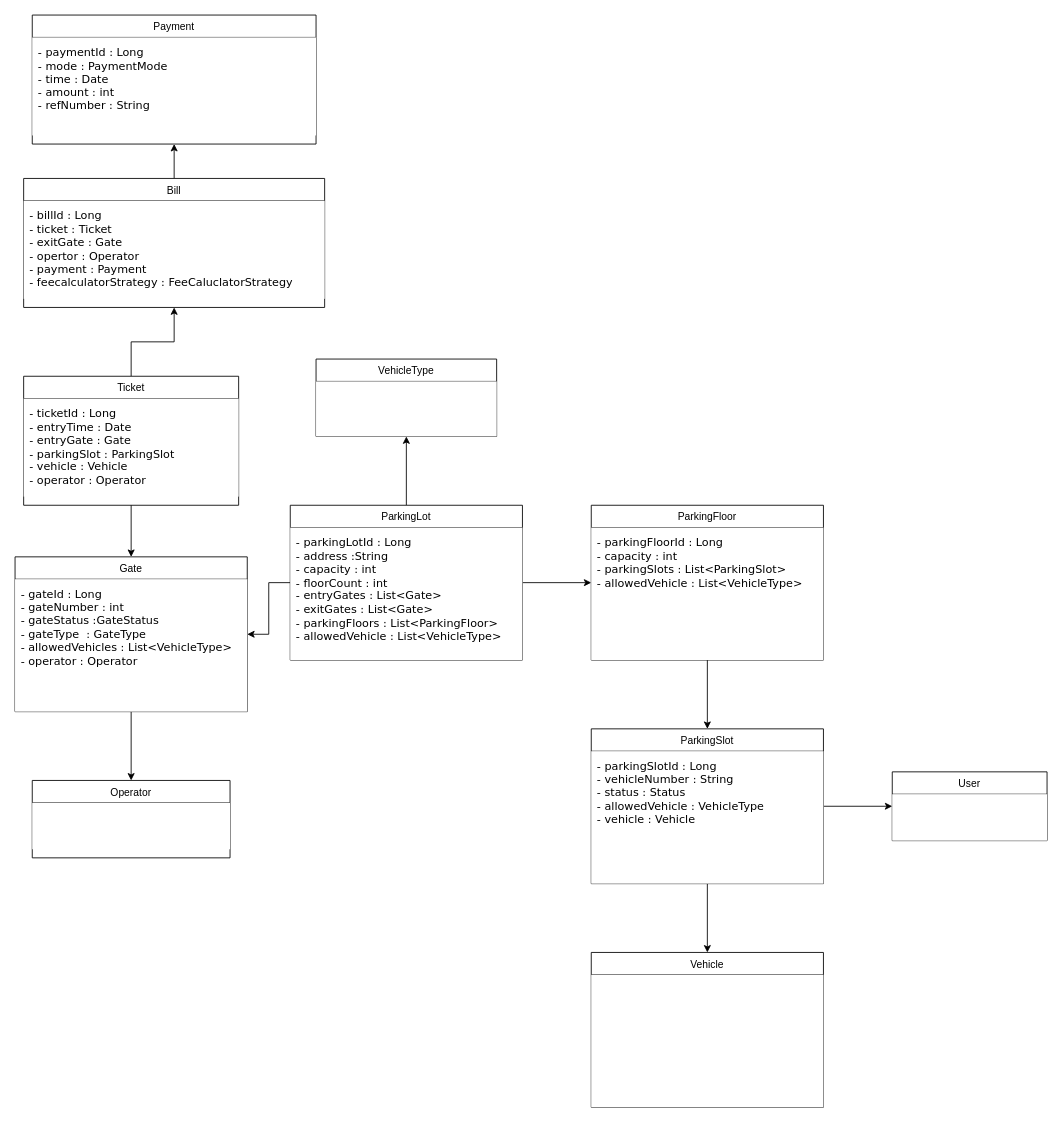
Image size: 1062x1122. Some labels were removed from this diagram. Here are the shapes that lost their labels. From the top down, the centre of each, then its label:
At [406,408]: "CAR, BIKE, TRUCK".
At [131,825]: "- operatorId :Long - emp_id :Long - name : String".
At [969,817]: "- userId : Long - name : String".
At [707,1040]: "- vehicleNumber : String - ownerdata : User - vehicleType : VehicleType".
